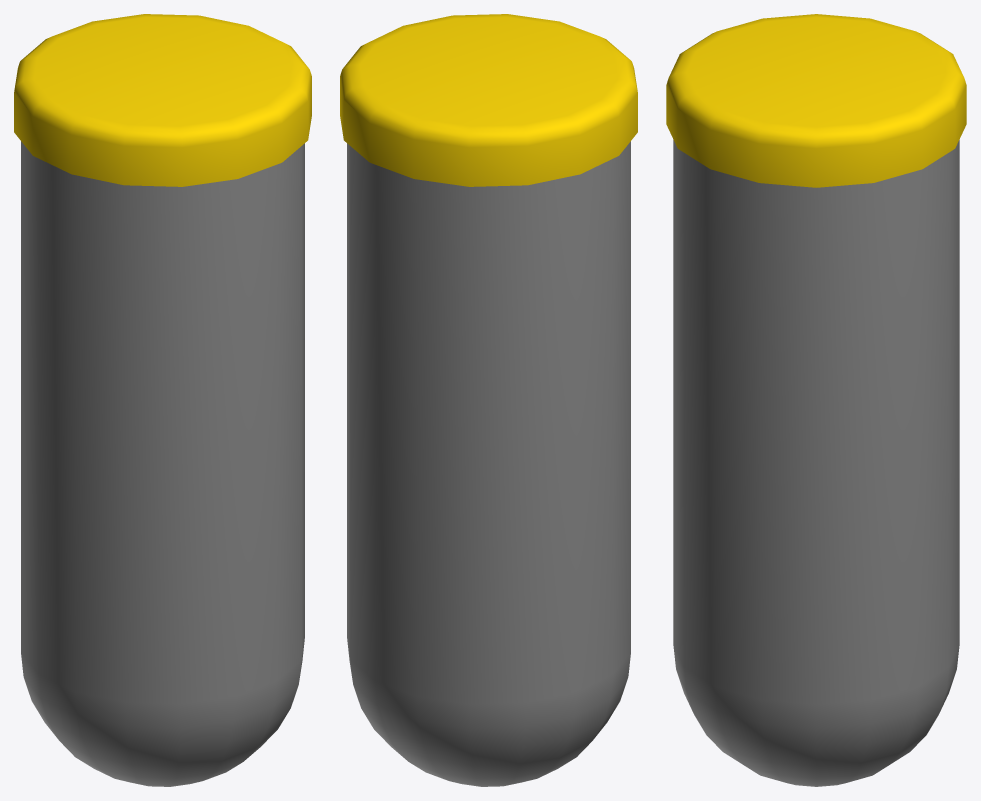
The model's file is DecorMachine_Tube.FBX.
The picture shows the model from 3 angles, left to right: view 1: azimuth 30°, elevation 25°; view 2: azimuth 150°, elevation 25°; view 3: azimuth 270°, elevation 25°; orthographic projection.
Parts seen in each view (by area): view 1: DecorMachine_Buttons_Tube; view 2: DecorMachine_Buttons_Tube; view 3: DecorMachine_Buttons_Tube.
Boxes of the visible parts, box(x1,y1,x2,y2) form: DecorMachine_Buttons_Tube: box(14, 14, 311, 786); DecorMachine_Buttons_Tube: box(340, 14, 637, 786); DecorMachine_Buttons_Tube: box(666, 14, 966, 786).
Size of the model in its own units: 3415 by 8801 by 3415.
